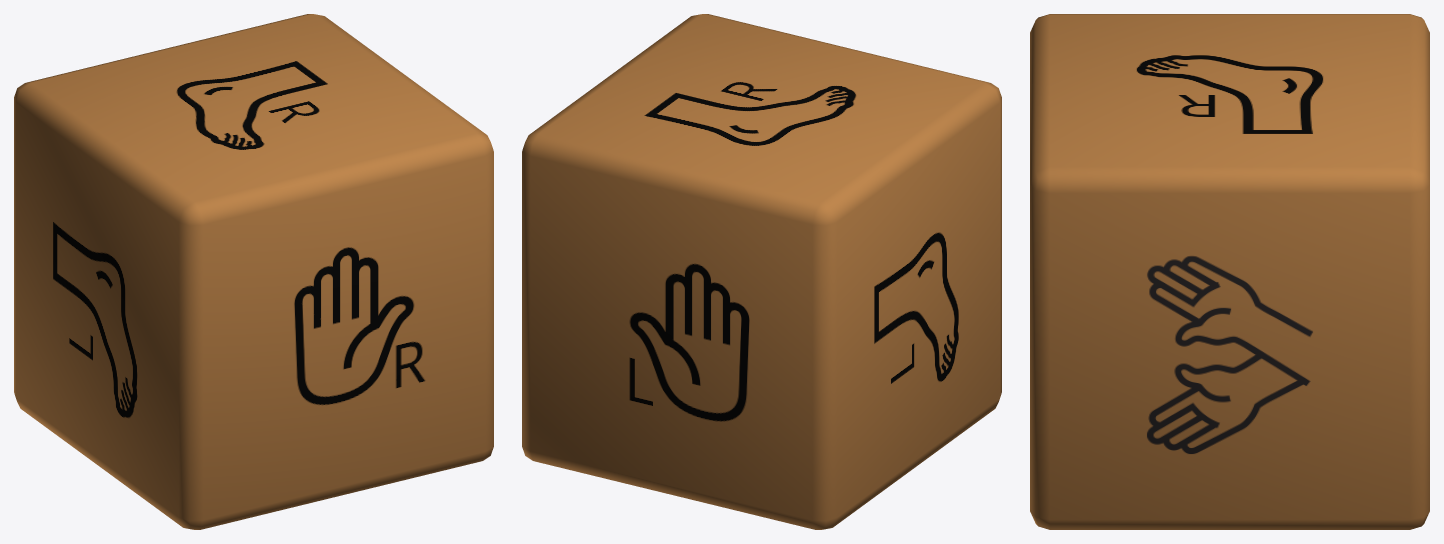
File: BoulderDie02.glb
3 views of the same model, side by side, from view 1: azimuth 30°, elevation 25°; view 2: azimuth 150°, elevation 25°; view 3: azimuth 270°, elevation 25° (orthographic). The views are drawn at different scales.
Parts seen in each view (by area): view 1: Cube; view 2: Cube; view 3: Cube.
Boxes of the visible parts, bbox=[...] form: Cube: bbox=[14, 14, 493, 529]; Cube: bbox=[522, 14, 1001, 529]; Cube: bbox=[1030, 14, 1429, 529].
Size of the model in its own units: 2 by 2 by 2.
Materials: 1 (1 with a texture image).
